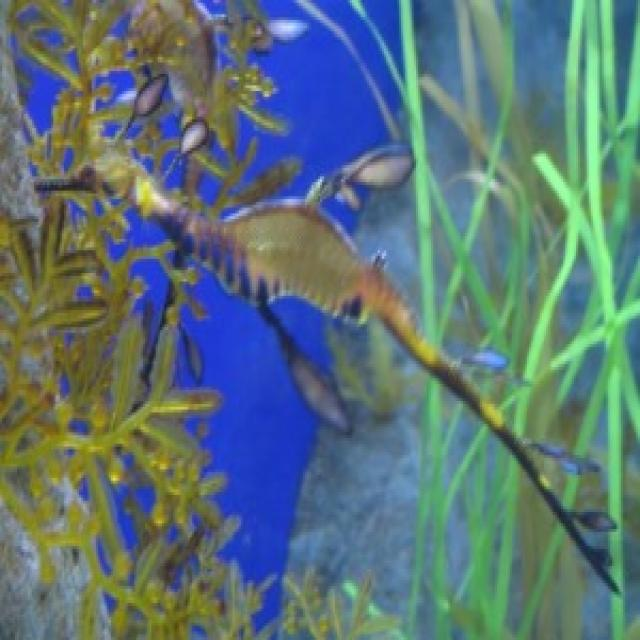Seahorse: (32, 84, 518, 382)
